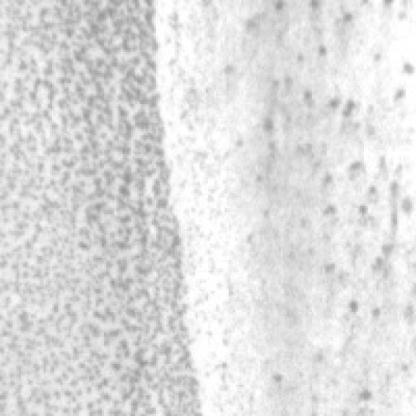pitted_surface: (2, 0, 198, 408), (267, 0, 414, 399)
